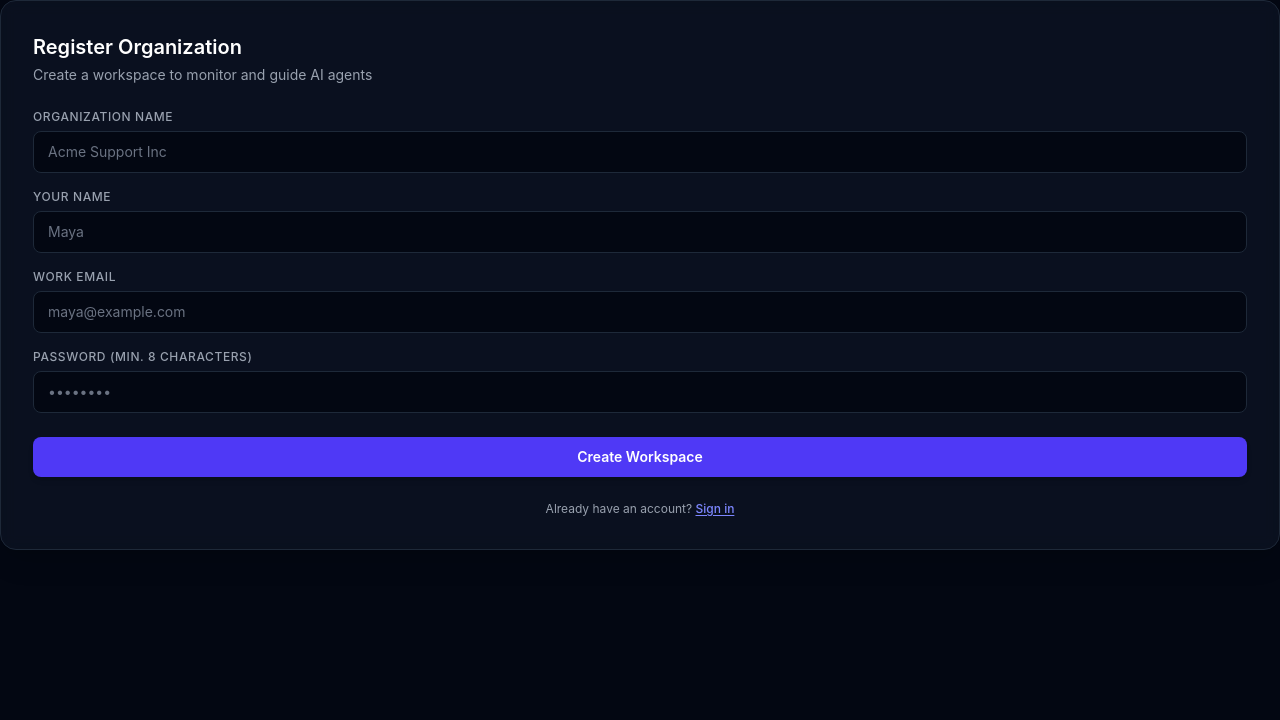
Test: Auth Integration and Unit Tests › 3. Register form blocks submit and shows field errors for invalid input
The image size is (1280, 720).
Type "invalid-email" into the field labelled "Work Email" at (640, 312), box [33,291,1247,333]
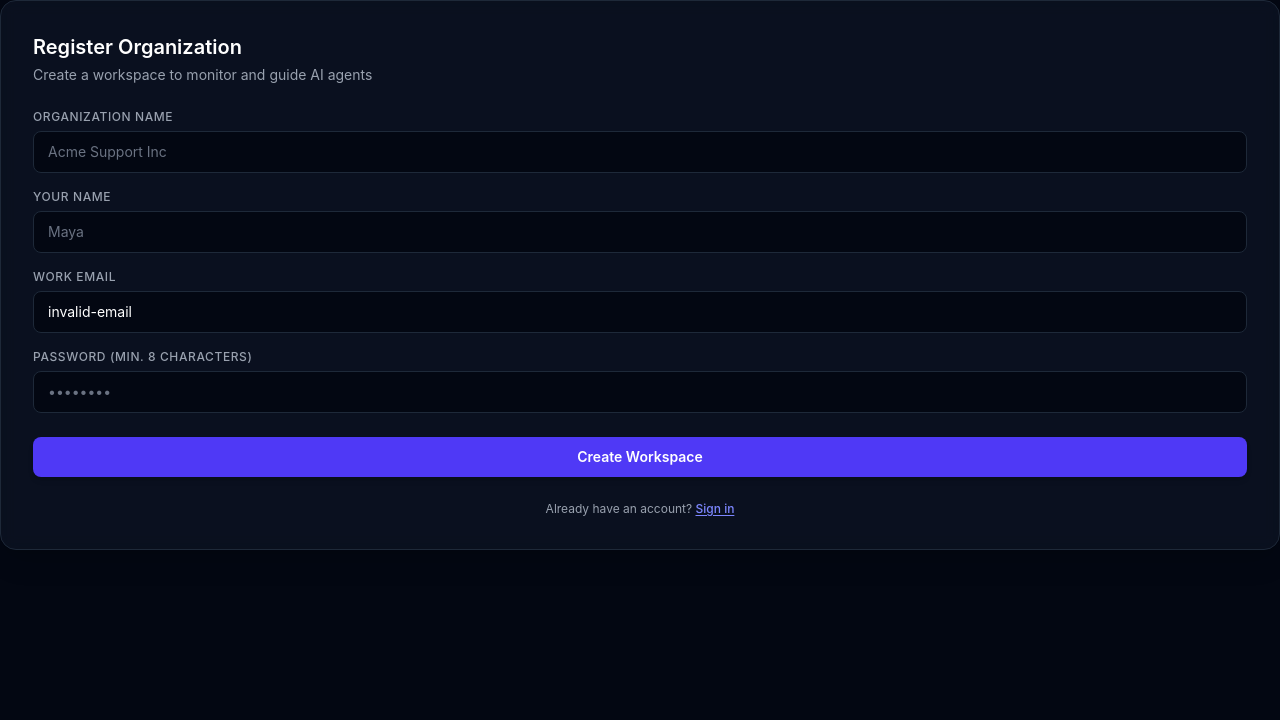
Type "short" into the password field labelled "Password (min. 8 characters)" at (640, 392), box [33,371,1247,413]
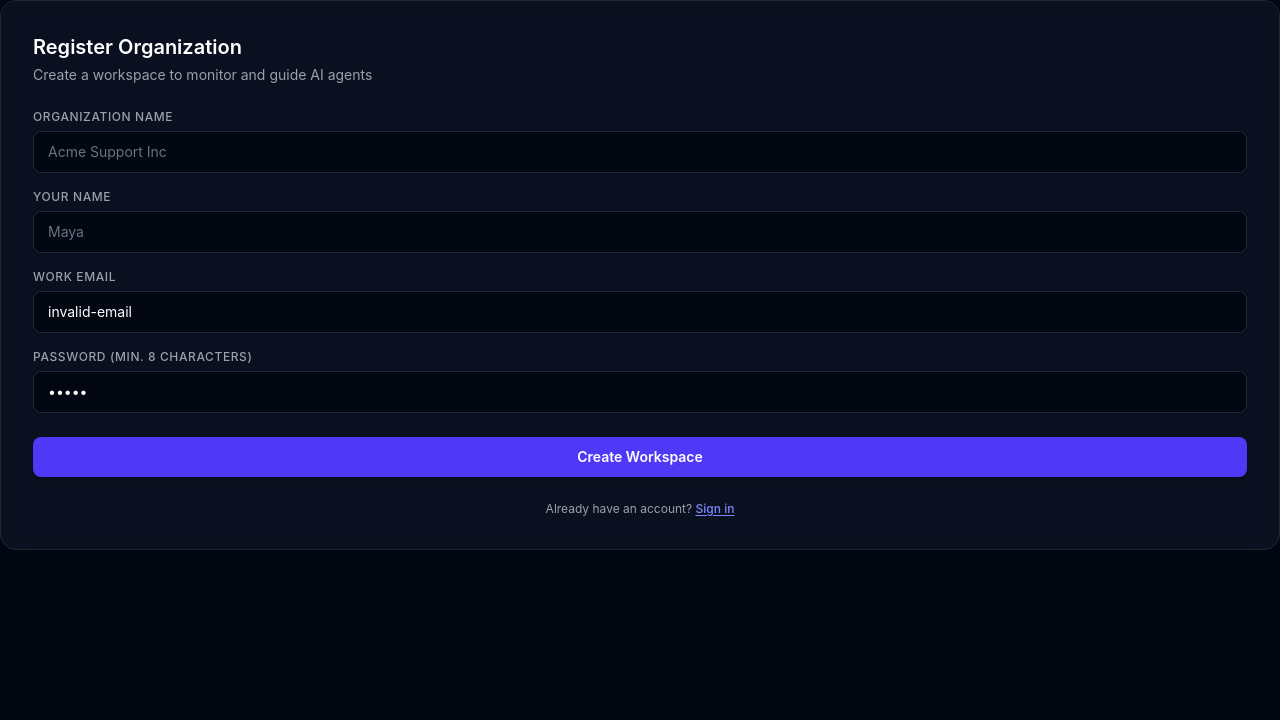
Click the button "Create Workspace" at (640, 457), box [33,437,1247,477]
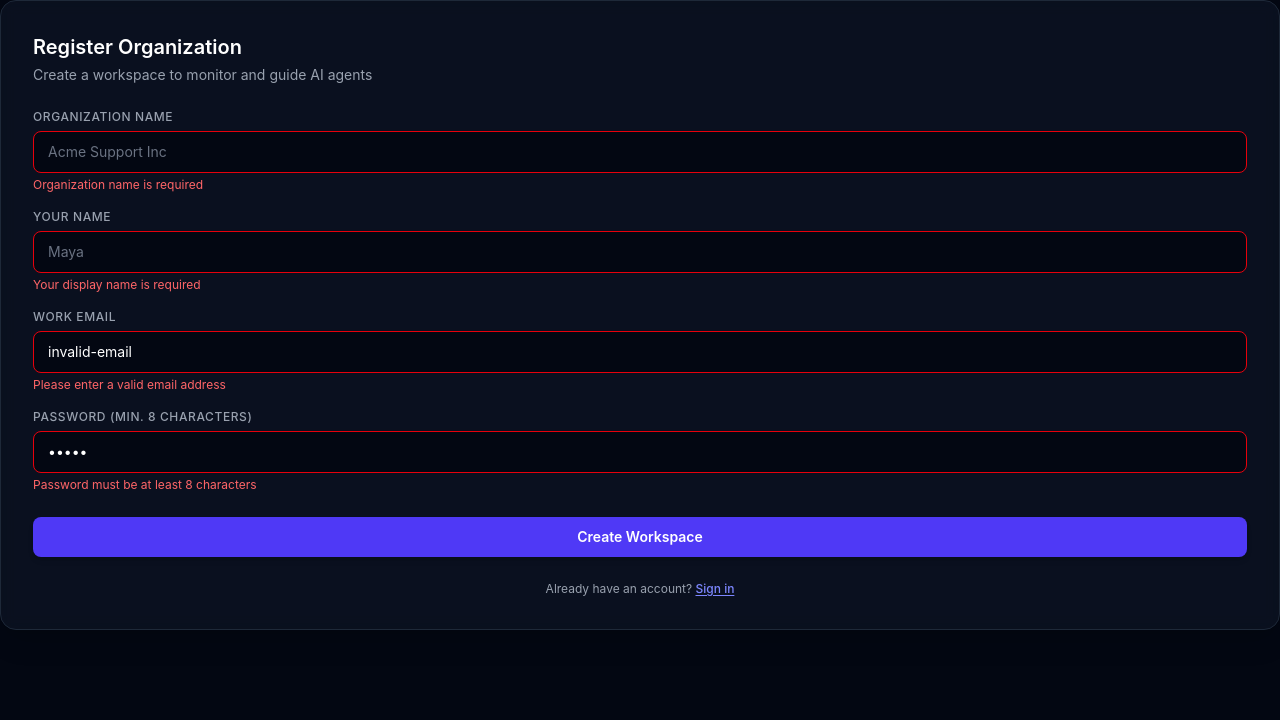
Expected: the text "Organization name is required" is shown, [33,177,203,192]
Expected: the text "Your display name is required" is shown, [33,277,201,292]
Expected: the text "Please enter a valid email address" is shown, [33,377,226,392]
